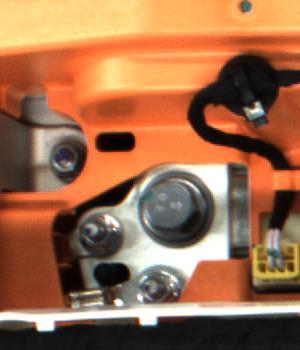nut_b: (135, 162, 213, 254)
